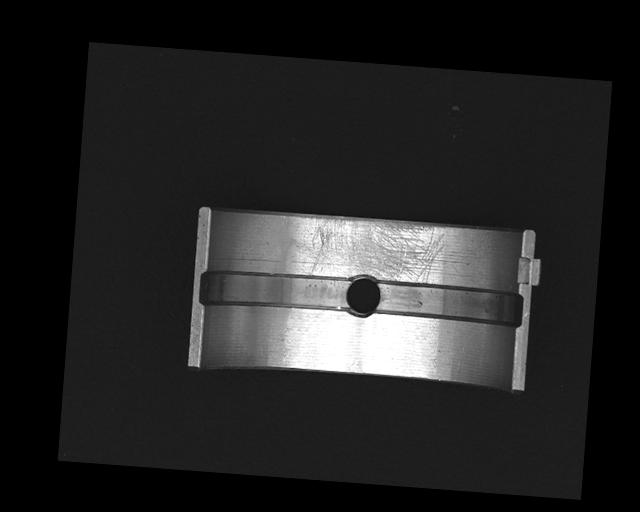gap: (199, 265, 352, 315), (375, 283, 525, 325)
hole: (345, 273, 380, 320)
scratch: (296, 215, 446, 285)
